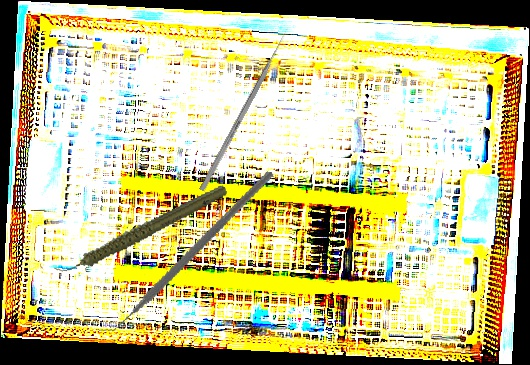Chopper: (93, 141, 274, 361)
Handpiece: (43, 182, 238, 277)
Pusher: (199, 26, 291, 192)
